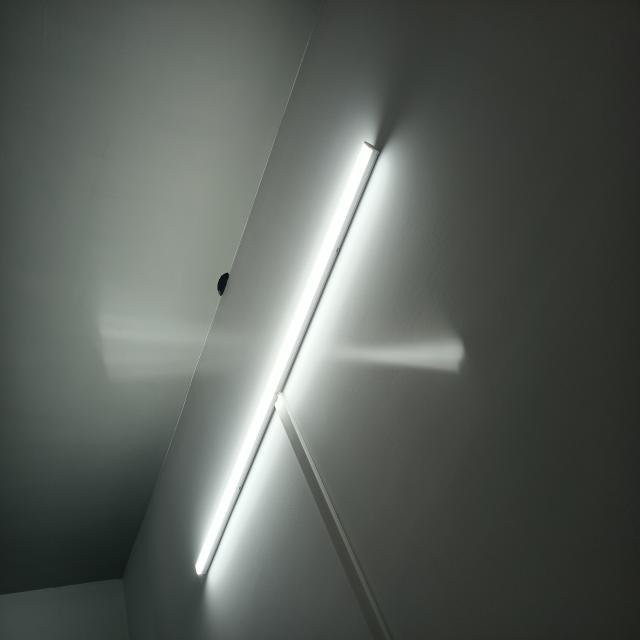light_on: (189, 126, 386, 591)
